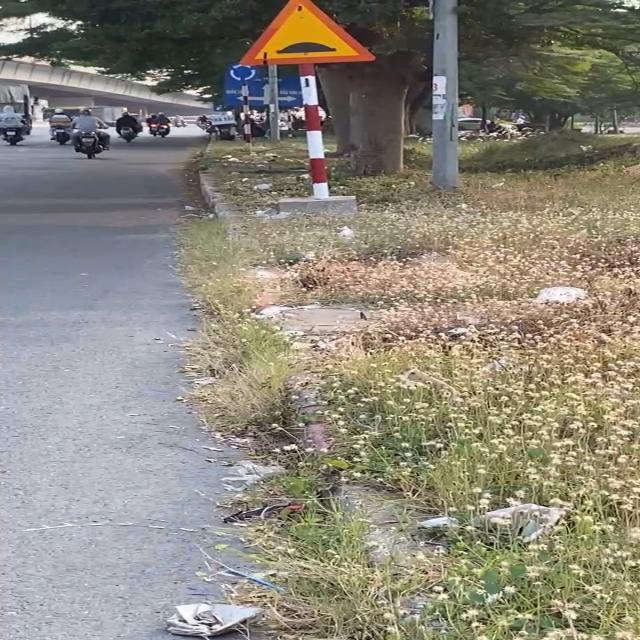221-duong-go-ghe: (240, 0, 376, 68)
303-noi-giao-nhau-chay-theo-vong-xuyen: (226, 63, 258, 81)
